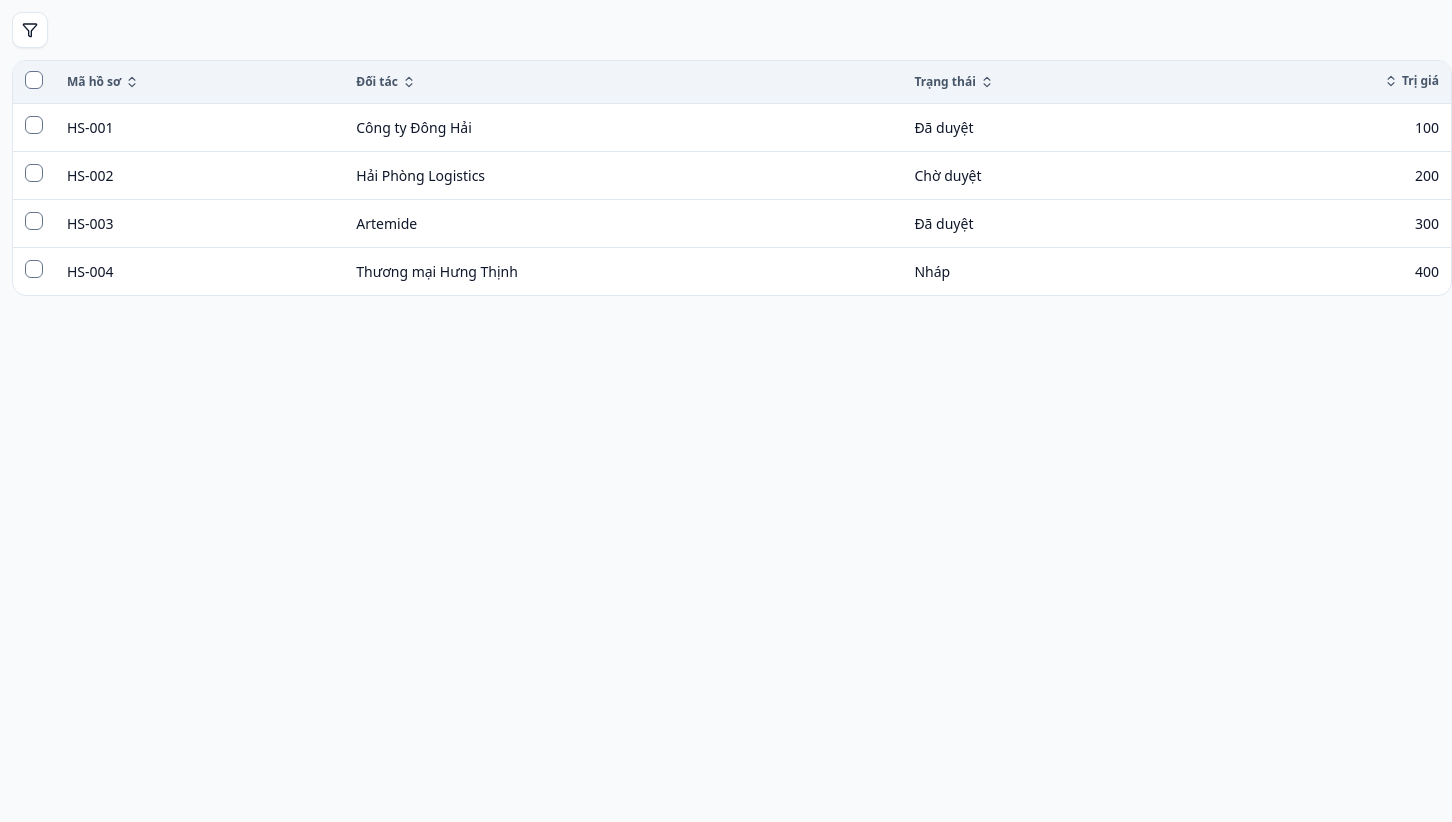
DataTable – thao tác hàng loạt › dòng đã chọn bị xóa khỏi dữ liệu → không còn tính, hết dòng thì thanh ẩn
Click the checkbox named "Chọn dòng HS-002": coordinates (34, 173) [25,164,43,182]
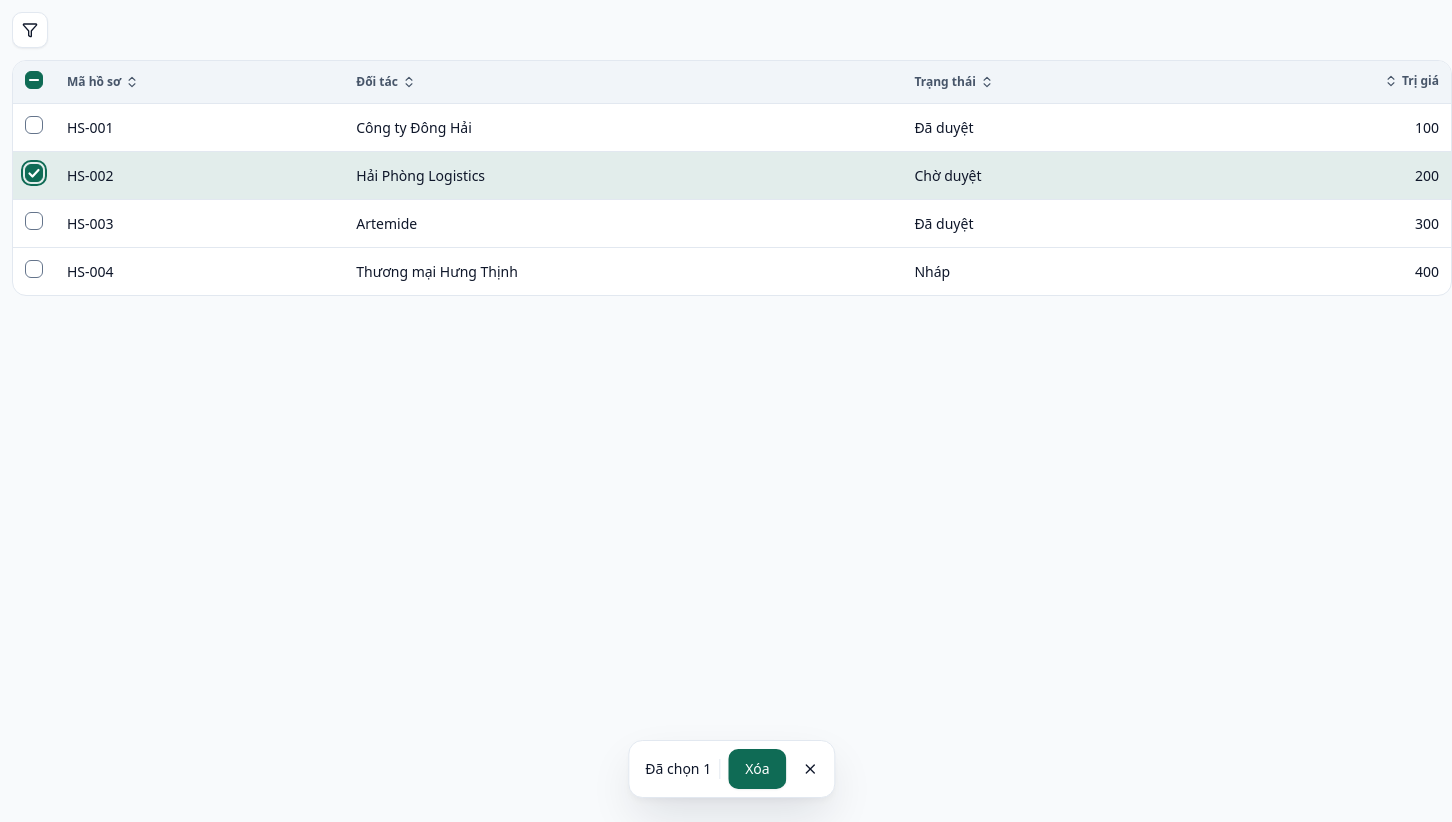
Expected: the element showing "Đã chọn 1 Xóa" is shown, [628,740,836,798]
